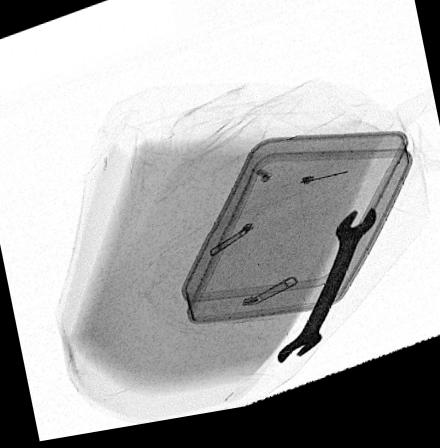Wrench: (275, 215, 377, 374)
